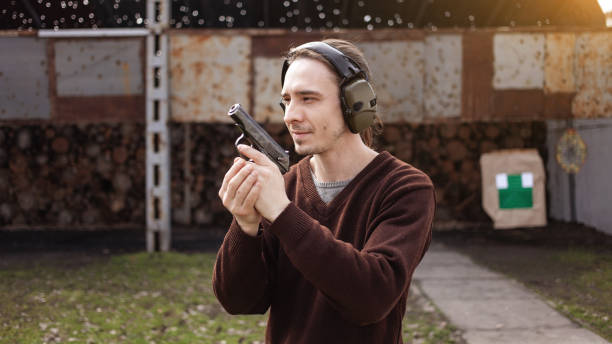gun: (227, 103, 291, 175)
